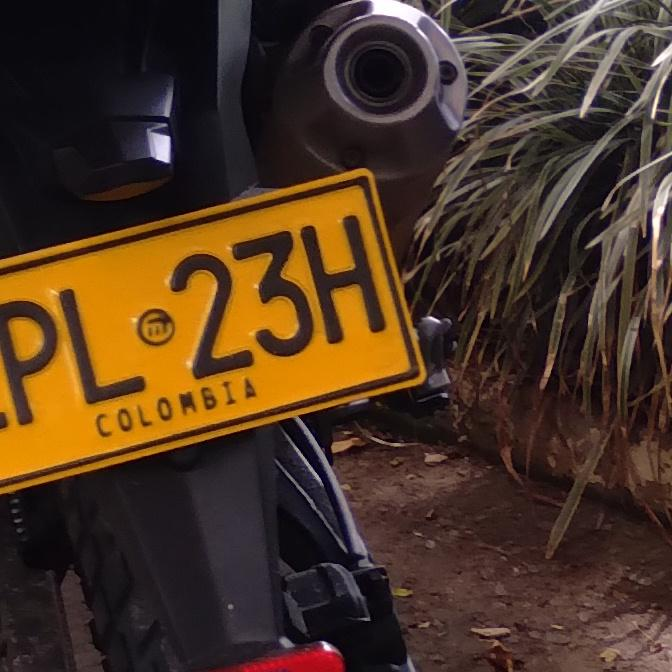plates: (0, 173, 434, 509)
